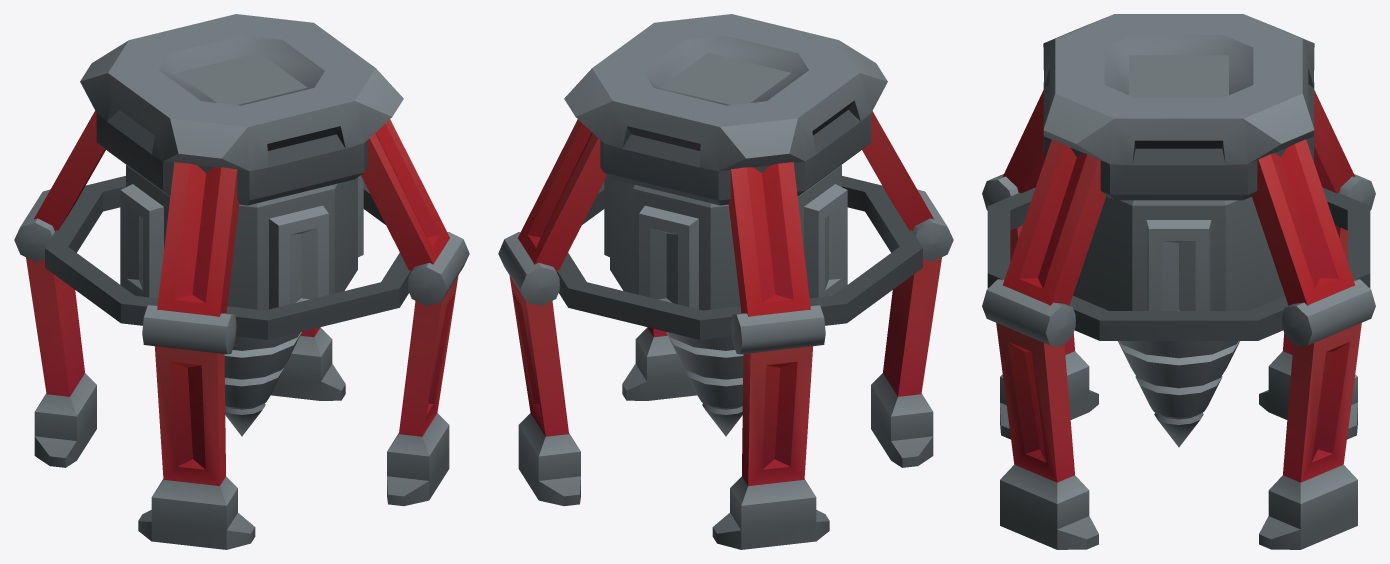
Rendered from space-drill-structure.glb.
3 renders of one model, left to right at view 1: azimuth 30°, elevation 25°; view 2: azimuth 150°, elevation 25°; view 3: azimuth 270°, elevation 25°, orthographic. The views are drawn at different scales.
Parts seen in each view (by area): view 1: drill_structure, drill_module; view 2: drill_structure, drill_module; view 3: drill_structure, drill_module.
Boxes of the visible parts, <box> form: drill_structure: <box>14,14,469,549</box>; drill_module: <box>120,165,363,436</box>; drill_structure: <box>498,14,953,549</box>; drill_module: <box>604,165,847,436</box>; drill_structure: <box>982,14,1375,549</box>; drill_module: <box>1073,197,1284,447</box>.
Bounding box in the file's own units: 1.75 × 2 × 1.75.
